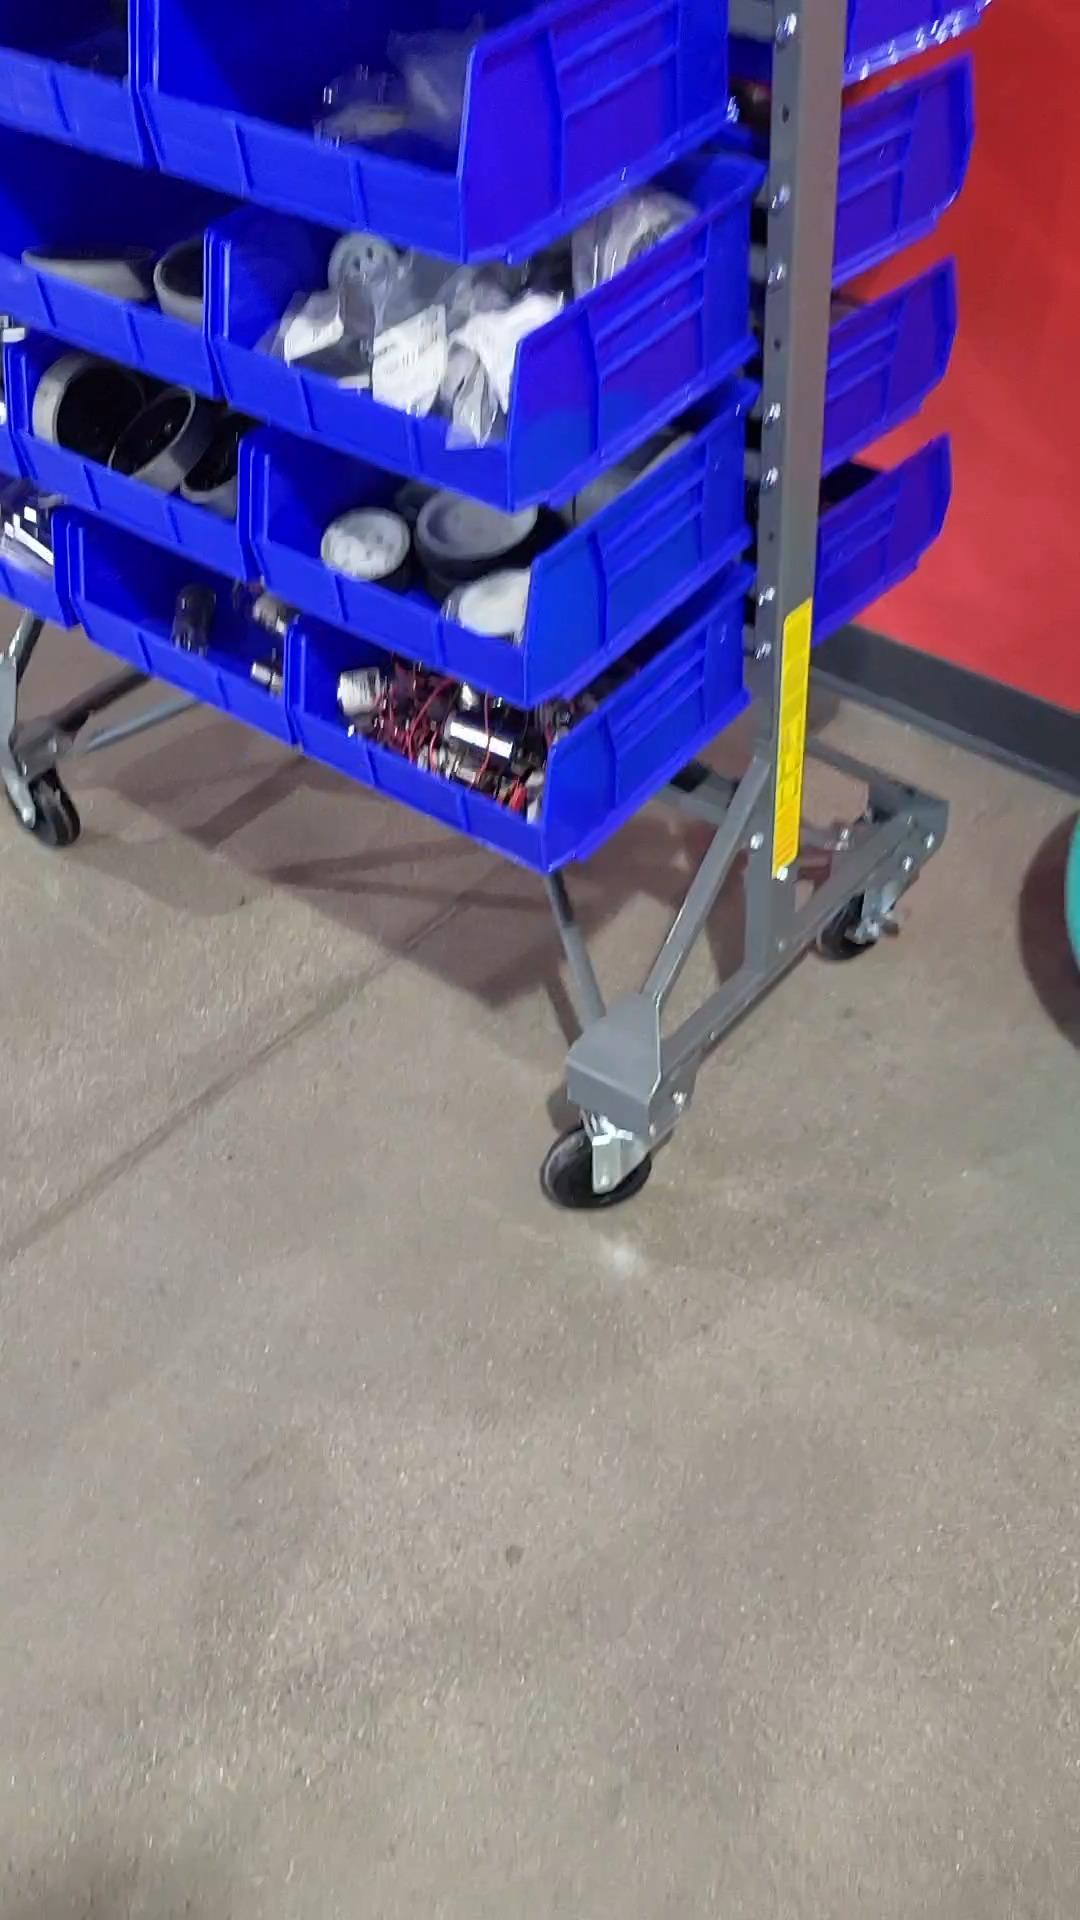algae: (1062, 831, 1080, 948)
